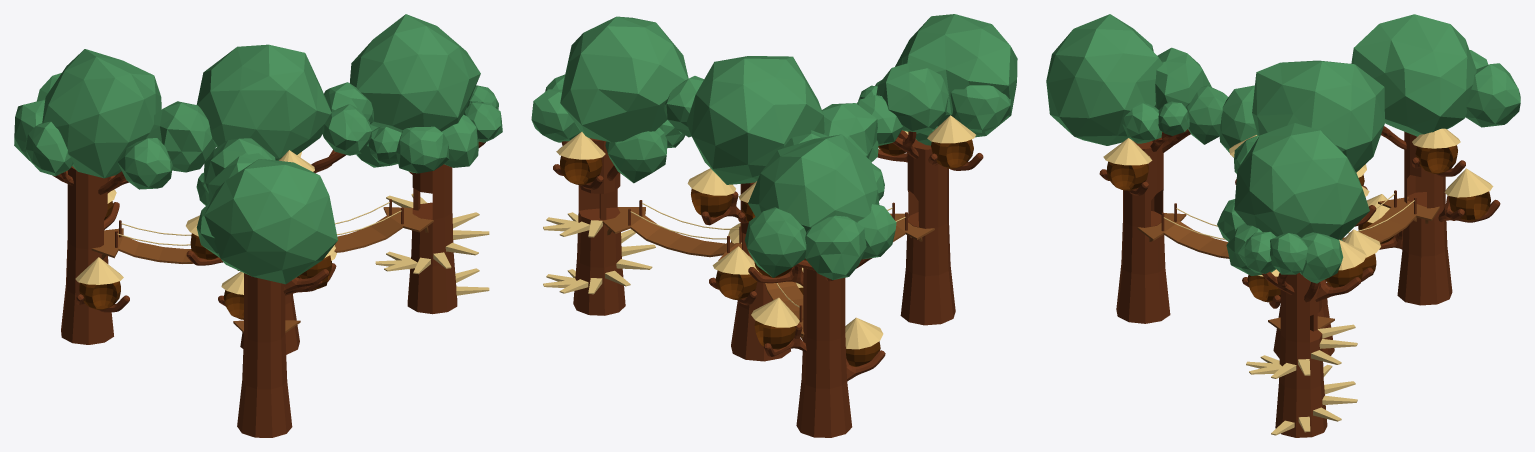
The model's file is florestaMacacos.fbx.
3 renders of one model, left to right at view 1: azimuth 30°, elevation 25°; view 2: azimuth 150°, elevation 25°; view 3: azimuth 270°, elevation 25°, orthographic.
Visible parts, largest first — view 1: cume, Cylinder.015, Cylinder.008, ArvoreEscadas, Cube.015, Cube.023, Sphere.011, Cone.011, Cylinder.003; view 2: cume, Cylinder.008, Cylinder.015, ArvoreEscadas, Cube.015, Cylinder.003, Sphere.005, Cone.010, Sphere.009, Cone.011, Sphere.006, Cube.023 (+10 smaller); view 3: cume, Cylinder.015, Cylinder.008, ArvoreEscadas, Cube.030, Cube.023, Sphere.001, Sphere.003, Cone.010, Sphere.010, Cone.001, Cone.003 (+7 smaller).
Boxes of the visible parts, x1=… form: cume: x1=14, y1=14, x2=502, y2=284; Cylinder.015: x1=237, y1=273, x2=292, y2=437; Cylinder.008: x1=61, y1=166, x2=113, y2=344; ArvoreEscadas: x1=407, y1=164, x2=457, y2=314; Cube.015: x1=334, y1=207, x2=433, y2=252; Cube.023: x1=91, y1=228, x2=199, y2=263; Sphere.011: x1=79, y1=281, x2=120, y2=309; Cone.011: x1=75, y1=257, x2=123, y2=284; Cylinder.003: x1=240, y1=293, x2=299, y2=354; cume: x1=531, y1=14, x2=1017, y2=279; Cylinder.008: x1=796, y1=258, x2=852, y2=437; Cylinder.015: x1=900, y1=139, x2=955, y2=325; ArvoreEscadas: x1=573, y1=138, x2=625, y2=315; Cube.015: x1=602, y1=207, x2=741, y2=260; Cylinder.003: x1=731, y1=182, x2=790, y2=361; Sphere.005: x1=560, y1=156, x2=602, y2=185; Cone.010: x1=751, y1=297, x2=799, y2=327; Sphere.009: x1=931, y1=139, x2=973, y2=168; Cone.011: x1=845, y1=317, x2=883, y2=349; Sphere.006: x1=715, y1=270, x2=757, y2=299; Cube.023: x1=759, y1=272, x2=804, y2=335; cume: x1=1046, y1=14, x2=1520, y2=283; Cylinder.015: x1=1116, y1=141, x2=1170, y2=323; Cylinder.008: x1=1397, y1=131, x2=1452, y2=305; ArvoreEscadas: x1=1275, y1=272, x2=1327, y2=437; Cube.030: x1=1137, y1=213, x2=1229, y2=258; Cube.023: x1=1342, y1=197, x2=1439, y2=242; Sphere.001: x1=1106, y1=161, x2=1148, y2=190; Sphere.003: x1=1415, y1=145, x2=1457, y2=173; Cone.010: x1=1444, y1=168, x2=1493, y2=197; Sphere.010: x1=1448, y1=191, x2=1490, y2=221; Cone.001: x1=1103, y1=138, x2=1152, y2=165; Cone.003: x1=1412, y1=128, x2=1460, y2=148.
Size of the model in its own units: 2243 by 1565 by 2270.
